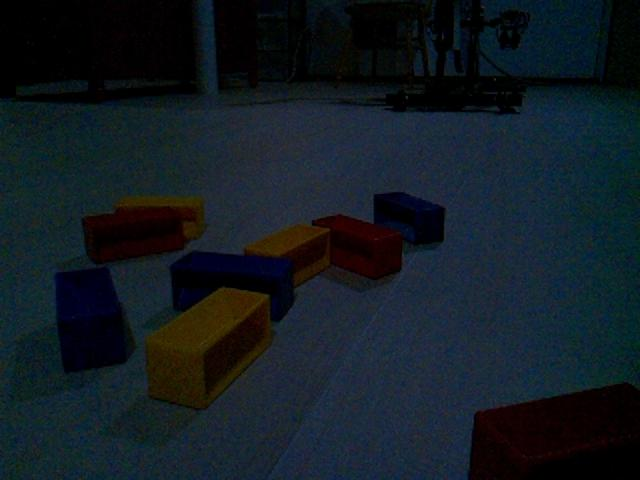blue: (170, 251, 296, 324), (54, 267, 128, 375), (374, 192, 447, 247)
red: (467, 380, 640, 480), (312, 214, 404, 281), (82, 207, 186, 266)
yellow: (144, 287, 274, 411), (244, 222, 332, 289), (114, 195, 207, 242)
